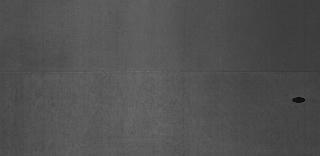punching hole: (291, 96, 307, 104)
welding line: (1, 67, 319, 77)
